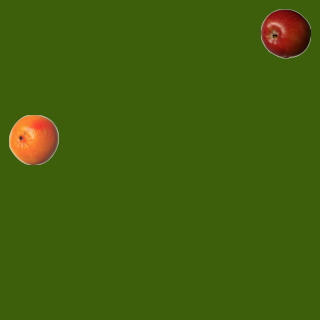Apple Braeburn: (260, 8, 310, 58)
Grapefruit Pink: (8, 114, 58, 164)
